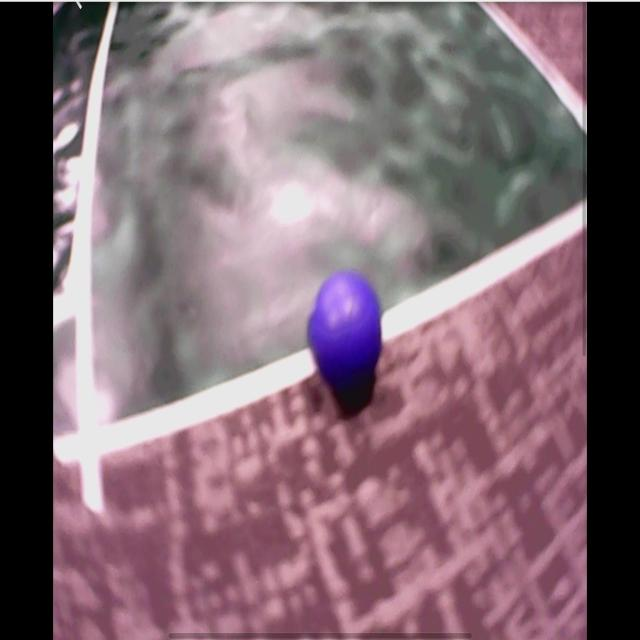ball: (310, 272, 386, 389)
